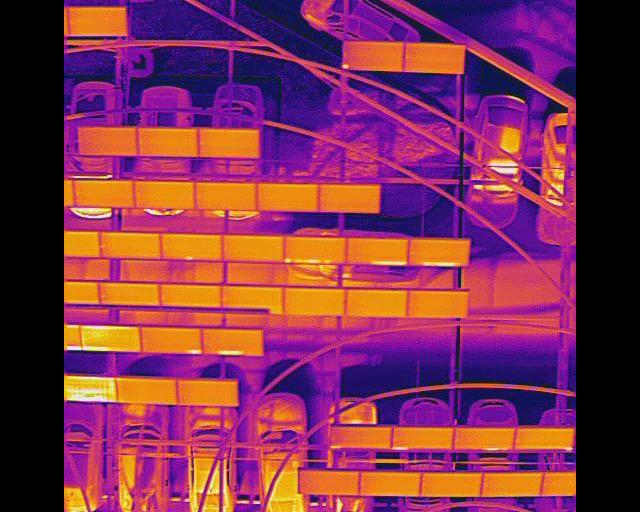Cell: (343, 40, 403, 70), (160, 232, 226, 259)
No-Anomaly: (194, 179, 257, 210), (404, 41, 465, 73), (319, 181, 380, 212), (67, 5, 128, 36), (199, 127, 260, 157), (136, 126, 199, 155), (257, 181, 320, 210), (345, 287, 408, 316), (99, 230, 162, 259), (282, 286, 347, 314), (407, 288, 468, 317), (72, 178, 135, 206), (116, 375, 179, 403), (358, 469, 422, 496), (134, 180, 195, 208), (222, 233, 285, 260), (219, 284, 285, 309), (299, 467, 360, 494), (78, 126, 139, 153), (420, 470, 483, 496), (158, 281, 223, 306), (98, 280, 162, 305), (176, 379, 238, 404), (331, 424, 394, 448), (481, 471, 544, 495), (454, 426, 516, 449), (515, 426, 575, 449)
Unclassified: (284, 234, 348, 263), (138, 326, 206, 353), (407, 236, 470, 265), (201, 327, 263, 355), (80, 324, 144, 351), (346, 236, 407, 264), (64, 374, 117, 402), (391, 426, 454, 449)
